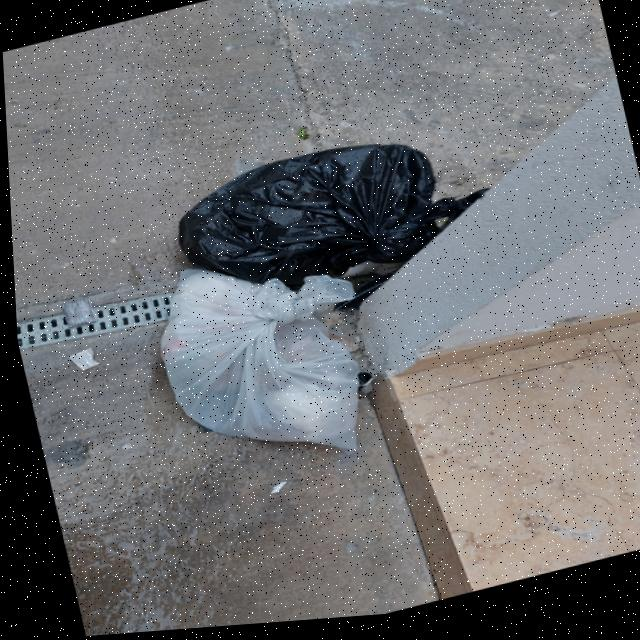Mixed Waste -Black Bag-: (162, 118, 497, 321)
Recycled Waste -Grey or Green Bag-: (139, 233, 389, 501)
